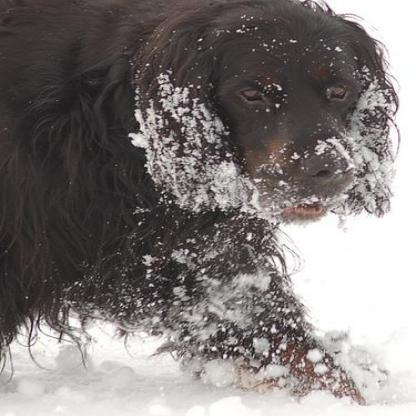Gordon_setter: (0, 0, 410, 413)
